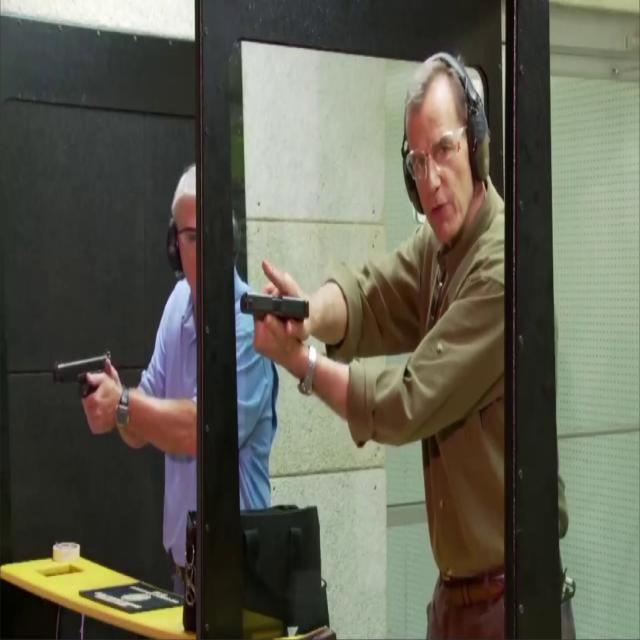weapon: (52, 350, 115, 400), (238, 291, 312, 321)
